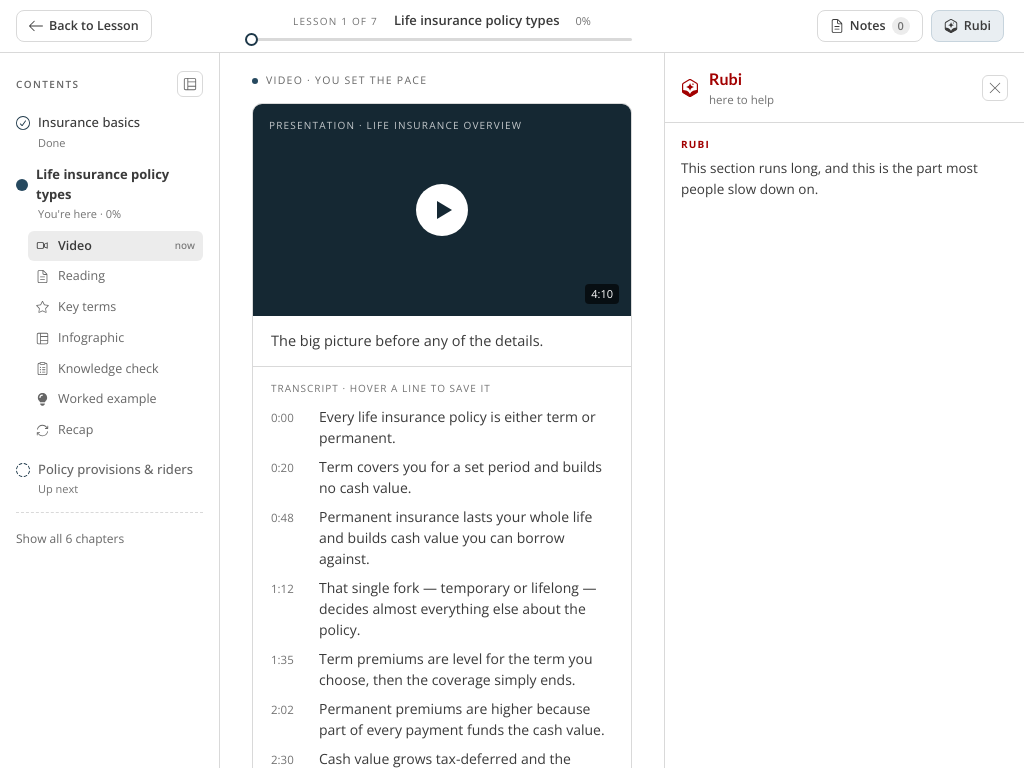
it: the Compass session › shows three chapters until asked for all six
This screenshot has width=1024, height=768.
Expected: the text "Annuities" is not shown
Click the button "Show all 6 chapters" at (70, 539), box [16,530,124,548]
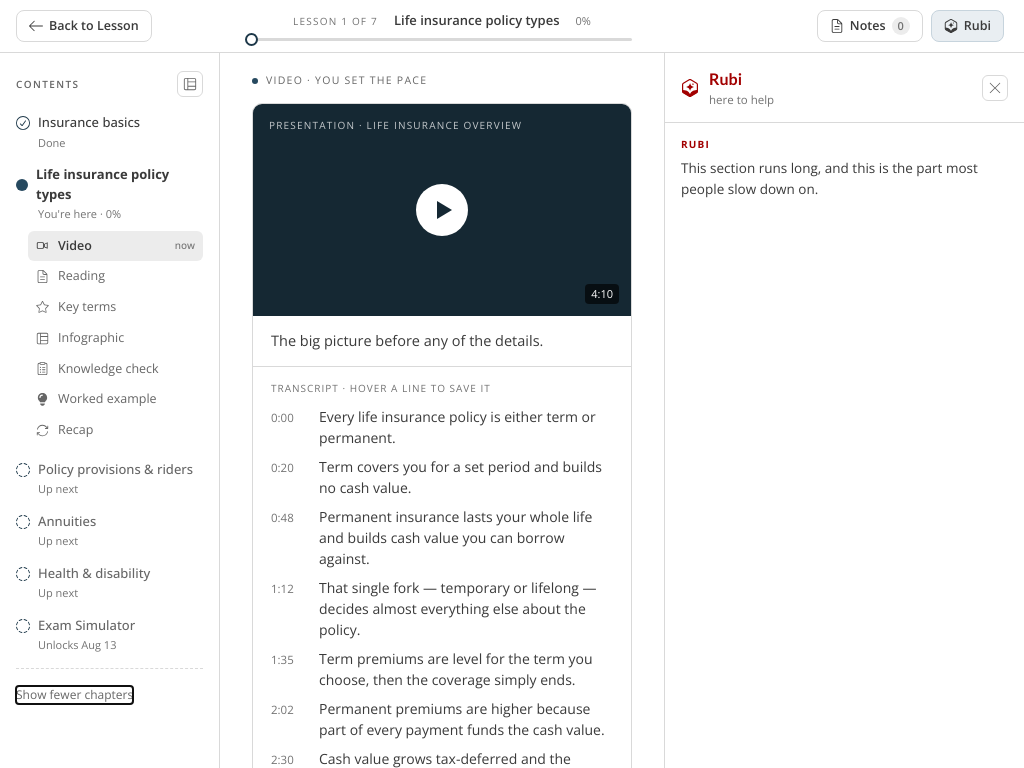
Result: the text "Annuities" is shown at [38,512,96,531]
Result: the text "Unlocks Aug 13" is shown at [38,637,116,652]
